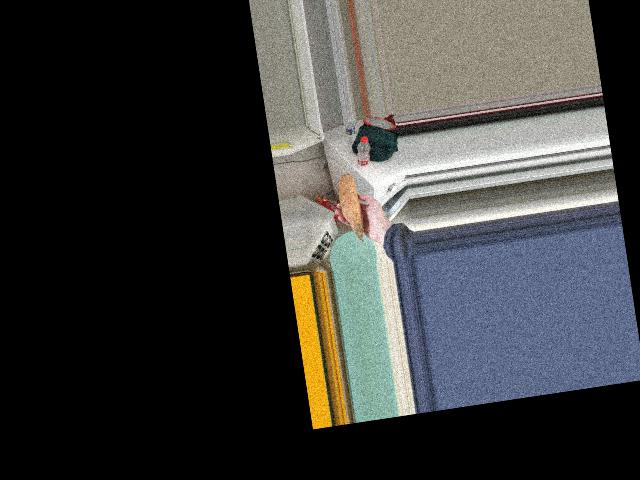sweet_potato: (340, 177, 367, 240)
